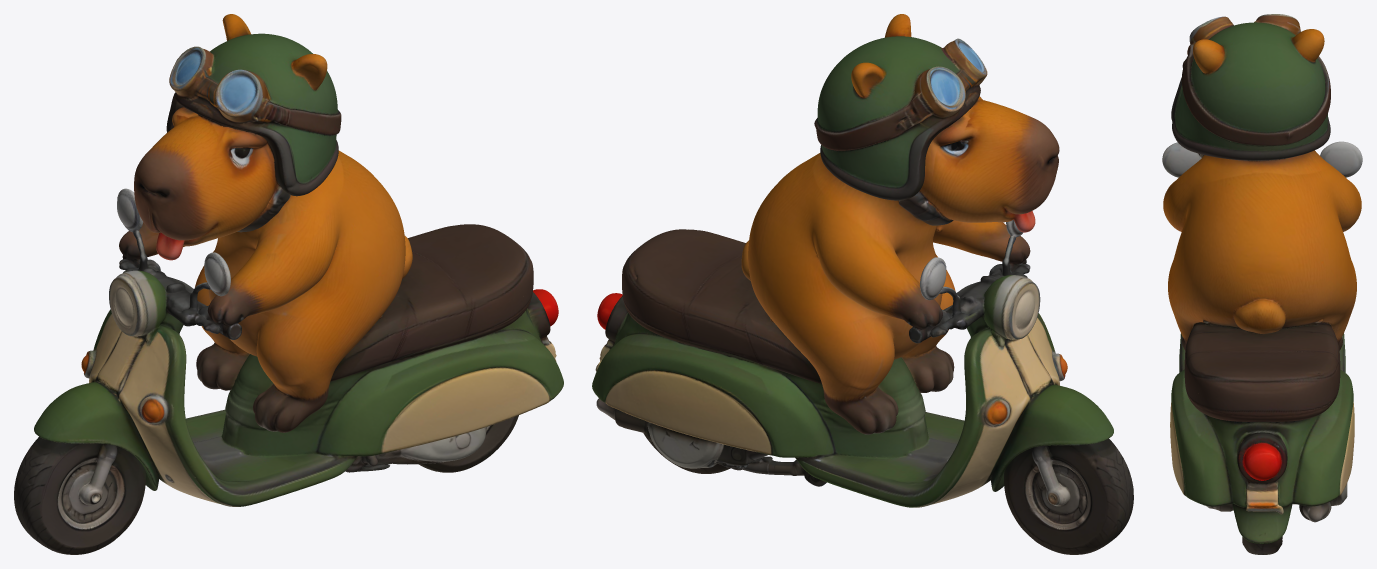
The model's file is capybara-premium-original.glb.
3 views of the same model, side by side, from view 1: azimuth 30°, elevation 25°; view 2: azimuth 150°, elevation 25°; view 3: azimuth 270°, elevation 25° (orthographic). The views are drawn at different scales.
Visible parts, largest first — view 1: tripo_node_e3ee2e38-106f-4e69-82d9-43effeadbc9c; view 2: tripo_node_e3ee2e38-106f-4e69-82d9-43effeadbc9c; view 3: tripo_node_e3ee2e38-106f-4e69-82d9-43effeadbc9c.
Boxes of the visible parts, x1,y1,x2,y2 form: tripo_node_e3ee2e38-106f-4e69-82d9-43effeadbc9c: [14, 14, 563, 554]; tripo_node_e3ee2e38-106f-4e69-82d9-43effeadbc9c: [592, 14, 1133, 554]; tripo_node_e3ee2e38-106f-4e69-82d9-43effeadbc9c: [1162, 14, 1362, 554].
Size of the model in its own units: 1 by 0.8565 by 0.3586.
Materials: 1 (1 with a texture image).
